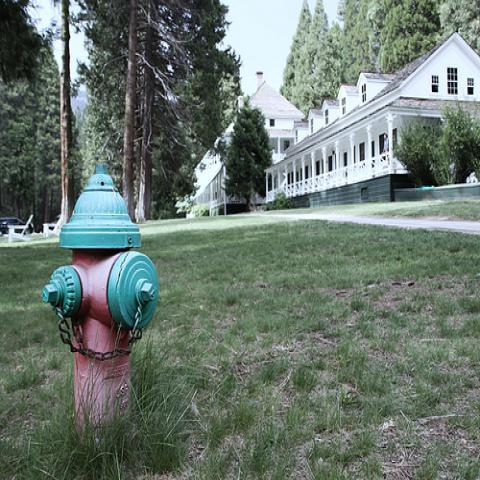car: (0, 216, 34, 237), (0, 217, 27, 238)
